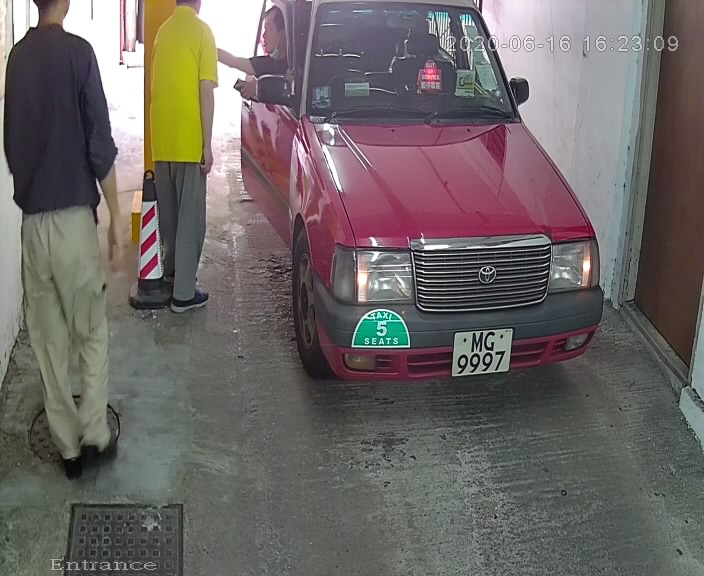taxi: (346, 298, 417, 359)
taxi_mark: (232, 2, 624, 414)
